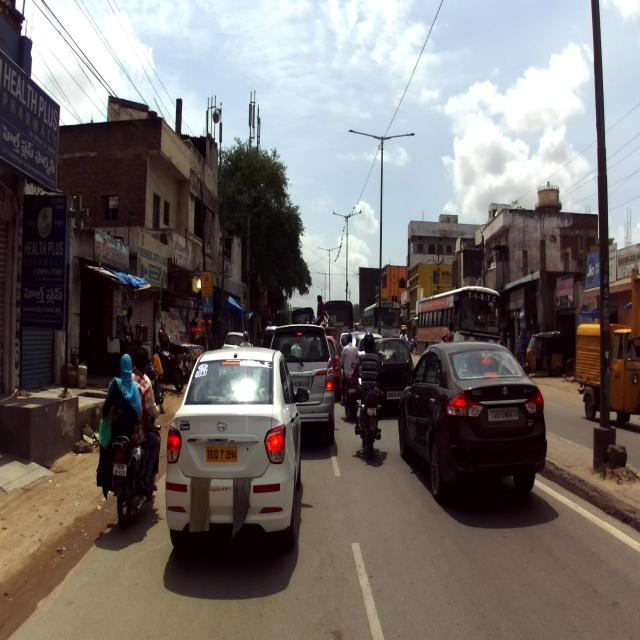Car_Hyundai: (164, 346, 309, 554)
Car_Maruti-Suzuki: (397, 343, 548, 508)
Car_Toyota: (268, 322, 336, 442)
autorickshaw: (575, 320, 639, 426)
motorcycle_Hero: (110, 386, 167, 531), (351, 358, 384, 458)
